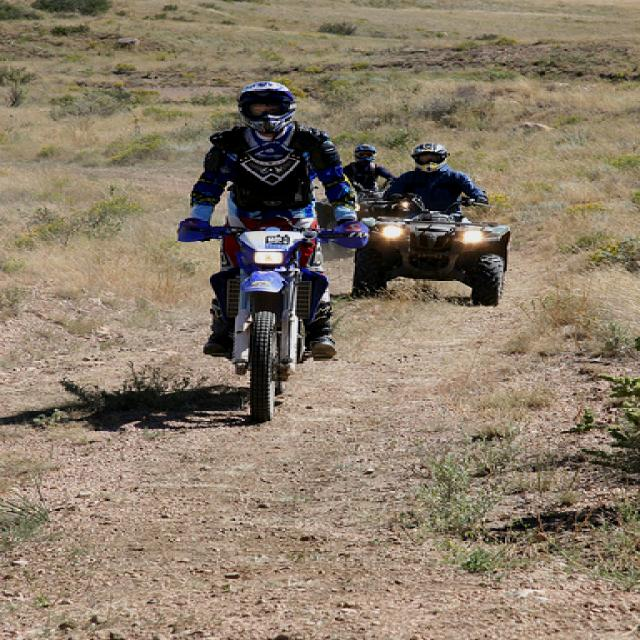Vehicle: (168, 219, 388, 427), (337, 190, 511, 314), (348, 178, 400, 222)
